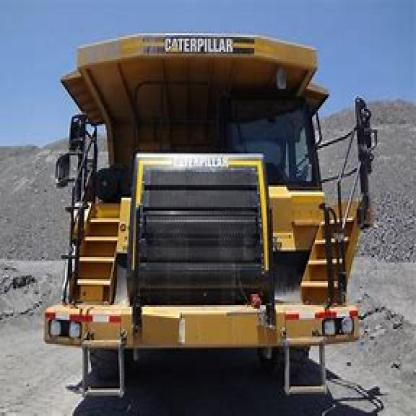dump_truck: (53, 24, 377, 399)
